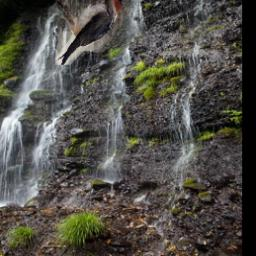Swallow: (55, 0, 128, 65)
